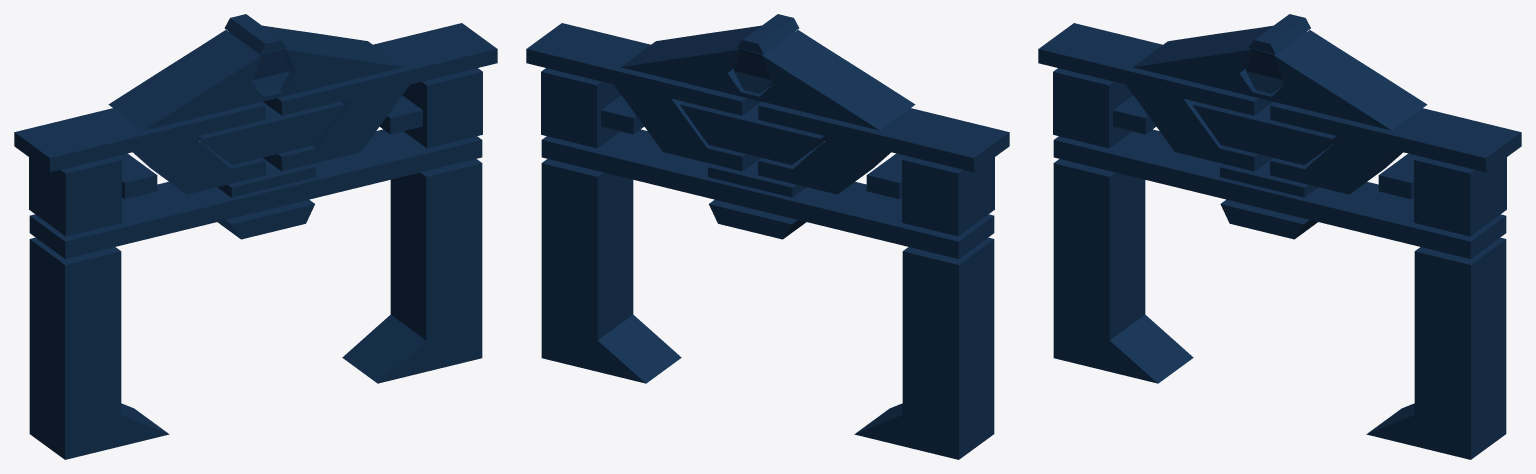
File: Nave.fbx
3 renders of one model, left to right at view 1: azimuth 30°, elevation 25°; view 2: azimuth 150°, elevation 25°; view 3: azimuth 330°, elevation 25°, orthographic.
Parts seen in each view (by area): view 1: Patas, Cube.005, Cube, Cube.007, Cube.003, Cube.006, Cube.004, Cube.001, Cube.002, Cube.009, Cube.008; view 2: Patas, Cube.005, Cube, Cube.007, Cube.003, Cube.006, Cube.004, Cube.001, Cube.002, Cube.009, Cube.008; view 3: Patas, Cube.005, Cube, Cube.007, Cube.003, Cube.006, Cube.004, Cube.001, Cube.002, Cube.009, Cube.008.
Boxes of the visible parts, left/top/right/bottom form: Patas: left=29, top=159, right=482, bottom=459; Cube.005: left=14, top=23, right=497, bottom=194; Cube: left=29, top=129, right=482, bottom=258; Cube.007: left=108, top=25, right=403, bottom=130; Cube.003: left=29, top=68, right=482, bottom=236; Cube.006: left=195, top=101, right=343, bottom=164; Cube.004: left=117, top=95, right=422, bottom=199; Cube.001: left=217, top=199, right=314, bottom=239; Cube.002: left=217, top=157, right=315, bottom=197; Cube.009: left=224, top=14, right=286, bottom=54; Cube.008: left=229, top=32, right=290, bottom=93; Patas: left=541, top=159, right=994, bottom=459; Cube.005: left=526, top=23, right=1009, bottom=194; Cube: left=541, top=129, right=994, bottom=258; Cube.007: left=620, top=25, right=915, bottom=130; Cube.003: left=541, top=68, right=994, bottom=236; Cube.006: left=680, top=101, right=828, bottom=164; Cube.004: left=601, top=95, right=906, bottom=199; Cube.001: left=709, top=199, right=806, bottom=239; Cube.002: left=708, top=157, right=806, bottom=197; Cube.009: left=737, top=14, right=799, bottom=54; Cube.008: left=733, top=32, right=794, bottom=93; Patas: left=1053, top=159, right=1506, bottom=459; Cube.005: left=1038, top=23, right=1521, bottom=194; Cube: left=1053, top=129, right=1506, bottom=258; Cube.007: left=1133, top=25, right=1427, bottom=130; Cube.003: left=1053, top=68, right=1506, bottom=236; Cube.006: left=1192, top=101, right=1340, bottom=164; Cube.004: left=1113, top=95, right=1418, bottom=199; Cube.001: left=1220, top=199, right=1317, bottom=239; Cube.002: left=1220, top=157, right=1318, bottom=197; Cube.009: left=1249, top=14, right=1310, bottom=54; Cube.008: left=1245, top=31, right=1306, bottom=93.
Bounding box in the file's own units: 436 × 342 × 62.21.
